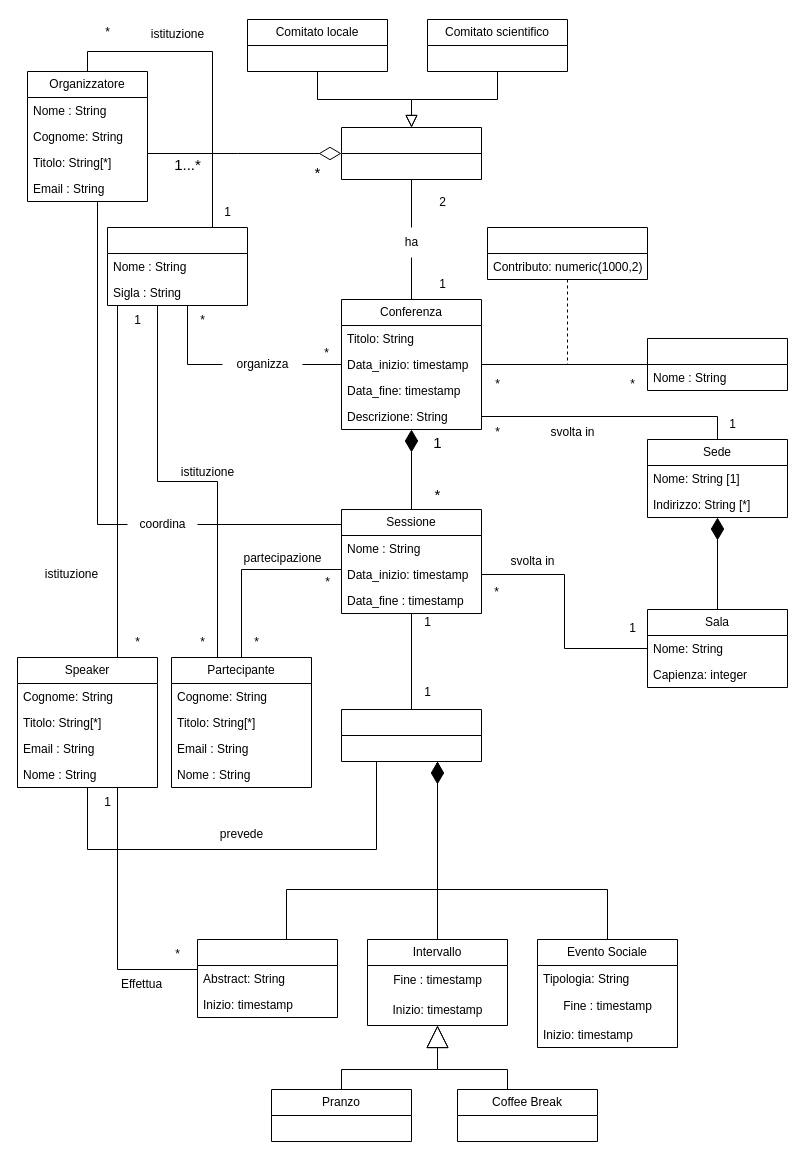
Some shapes in this 805 by 1159 pixel diagram are drawn without their labels. Each missing label, with the box of its shape:
Comitato: (340, 126, 482, 180)
Ente: (106, 226, 248, 306)
Intervento: (196, 938, 338, 1018)
Programma: (340, 708, 482, 762)
Sponsor: (646, 338, 788, 390)
Sponsorizzazione: (486, 226, 648, 280)
